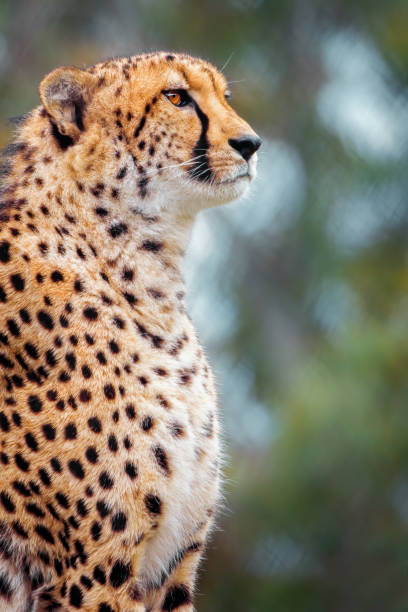cheetah: (21, 34, 266, 243)
